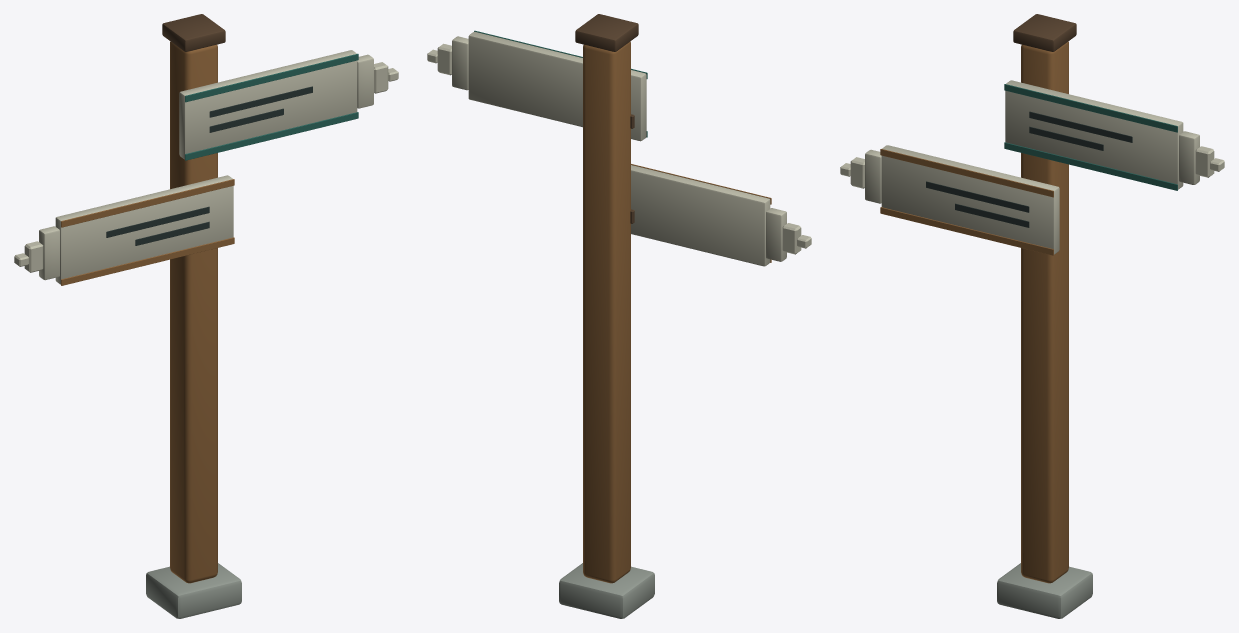
Rendered from signpost.glb.
3 views of the same model, side by side, from view 1: azimuth 30°, elevation 25°; view 2: azimuth 150°, elevation 25°; view 3: azimuth 330°, elevation 25° (orthographic).
Visible parts, largest first — view 1: signpost; view 2: signpost; view 3: signpost.
Boxes of the visible parts, x1,y1,x2,y2 form: signpost: (14, 14, 398, 618); signpost: (427, 14, 811, 618); signpost: (840, 14, 1224, 618).
Size of the model in its own units: 1.84 by 2.66 by 0.28.
